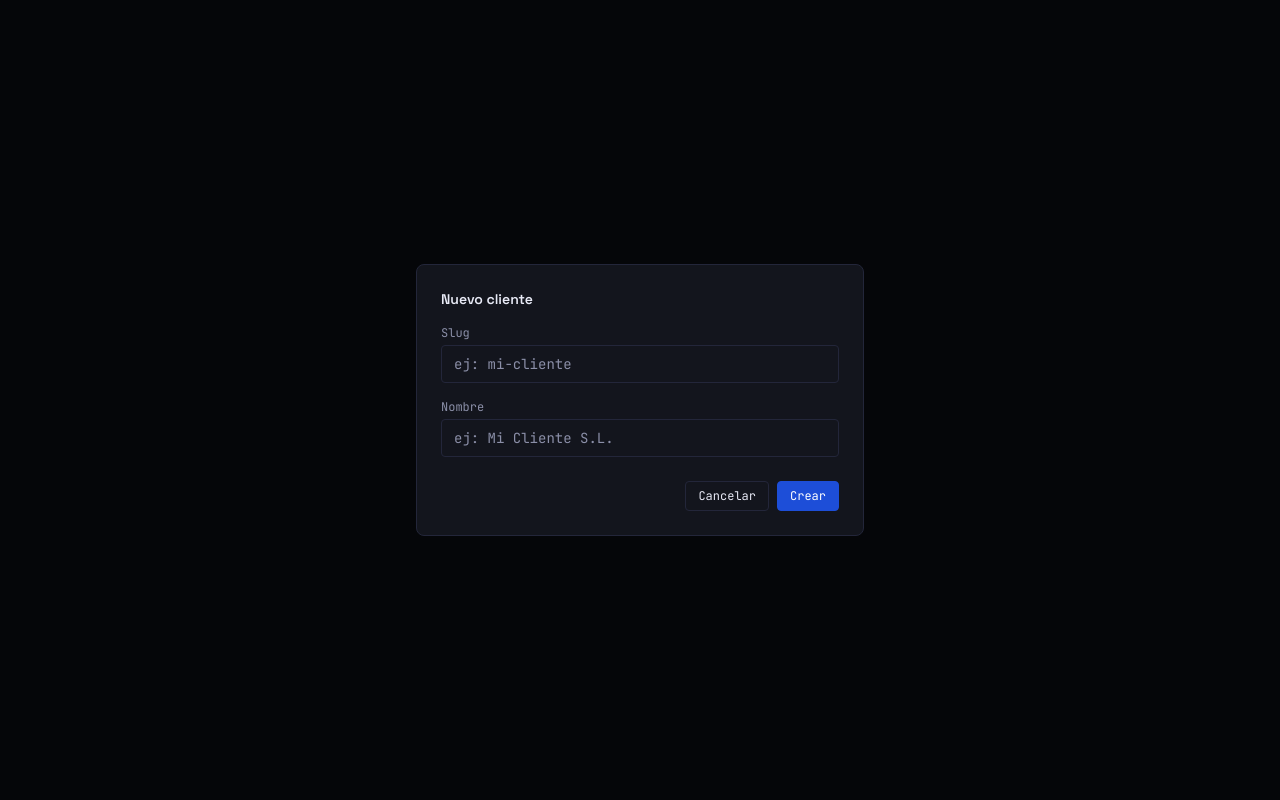
Test: ClienteFormModal — nuevo cliente › shows error when action returns error
Type "cliente-uno" into the field labelled "Slug" at (640, 364), box [441,345,839,383]
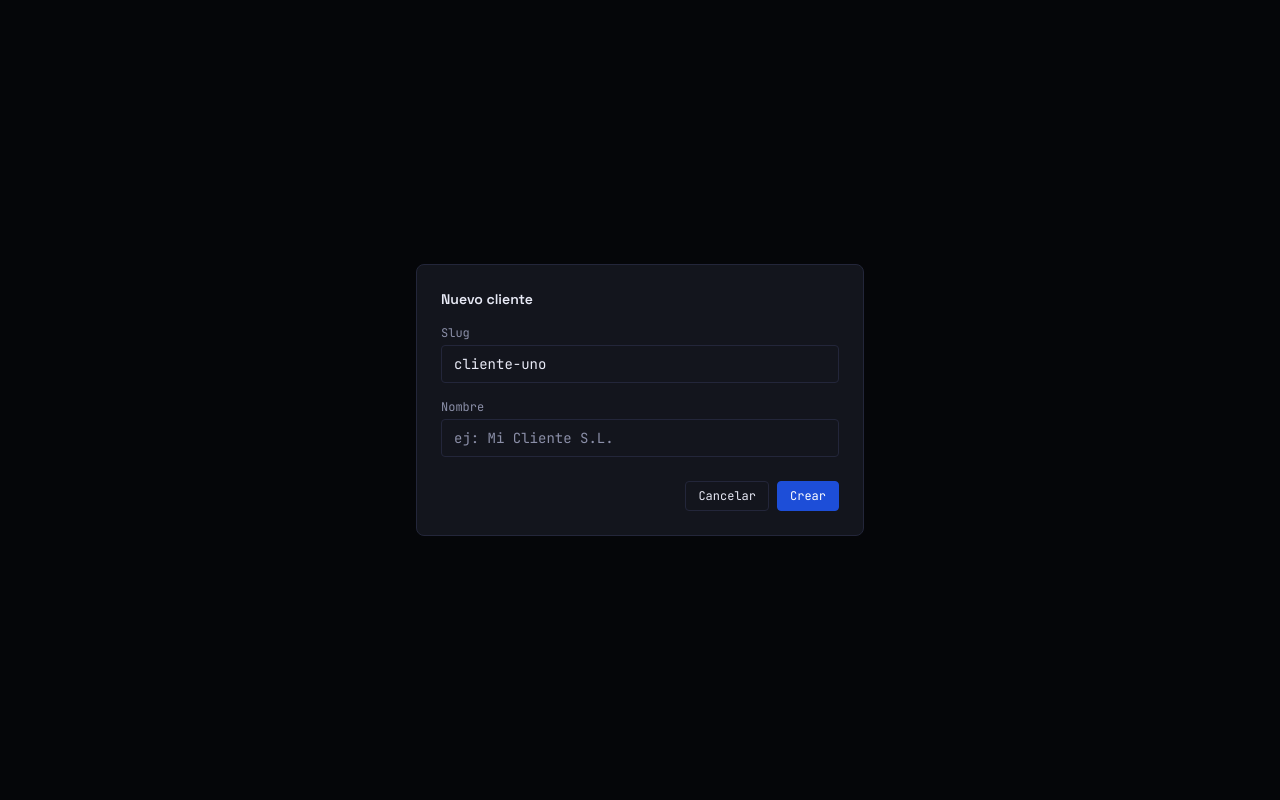
Type "Cliente Uno" into the field labelled "Nombre" at (640, 438), box [441,419,839,457]
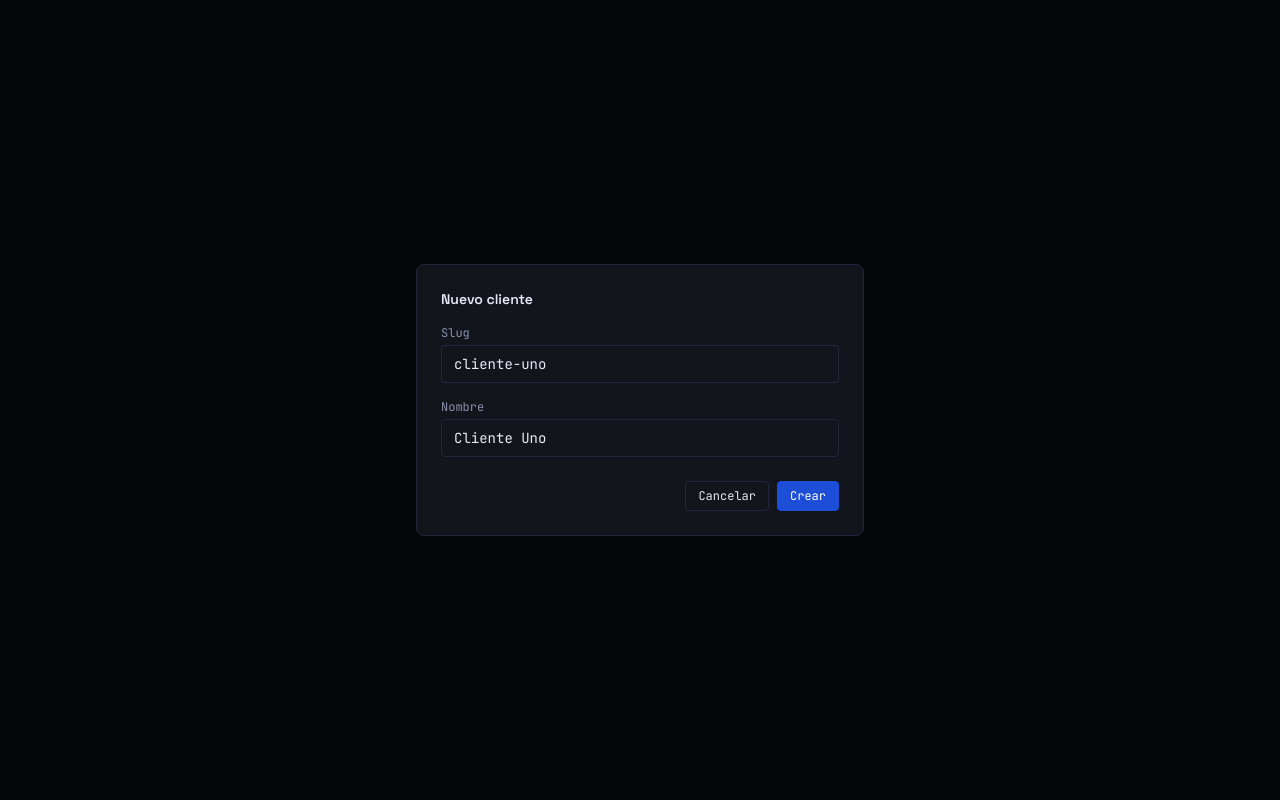
Click the button "Crear" at (808, 496), box [777,481,839,511]
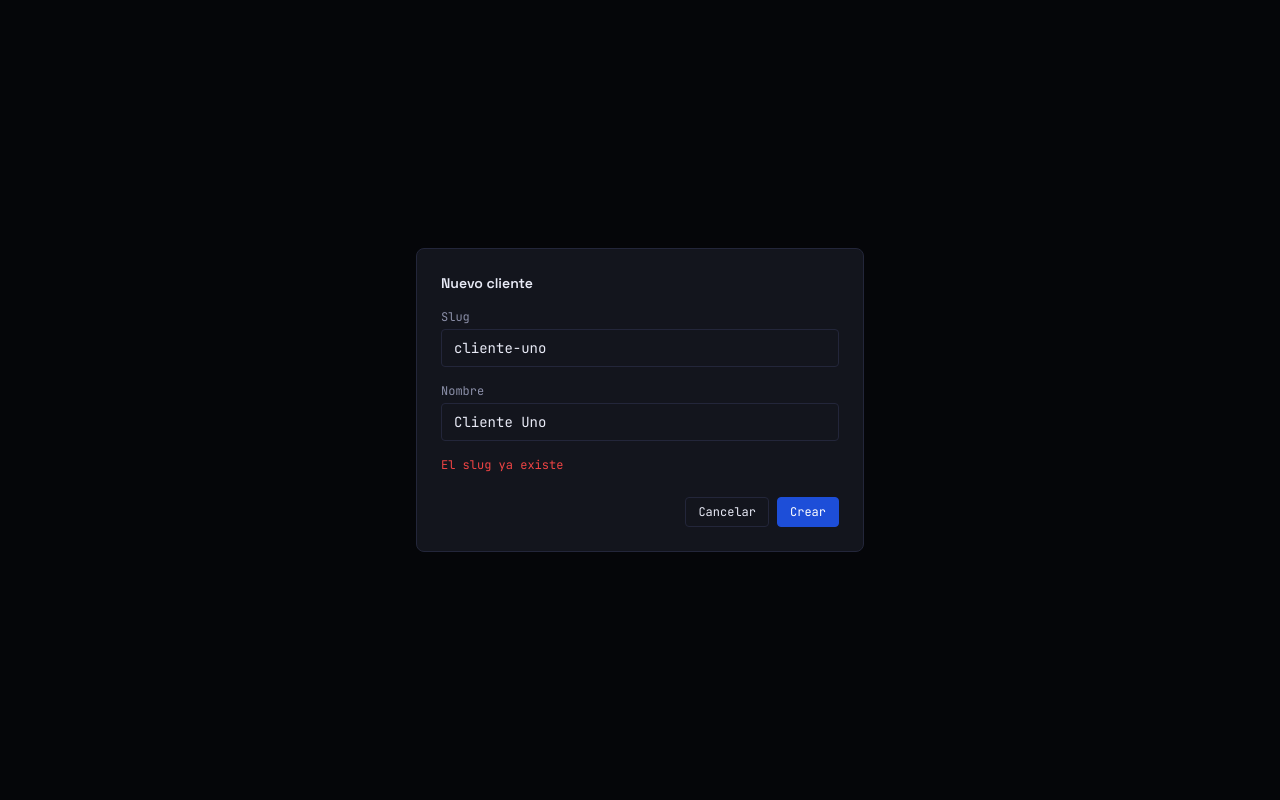
Expected: the message reads "El slug ya existe", [441,457,563,473]
